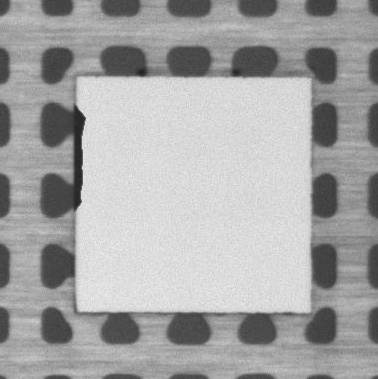DIE_BROKEN: (71, 107, 88, 214)
